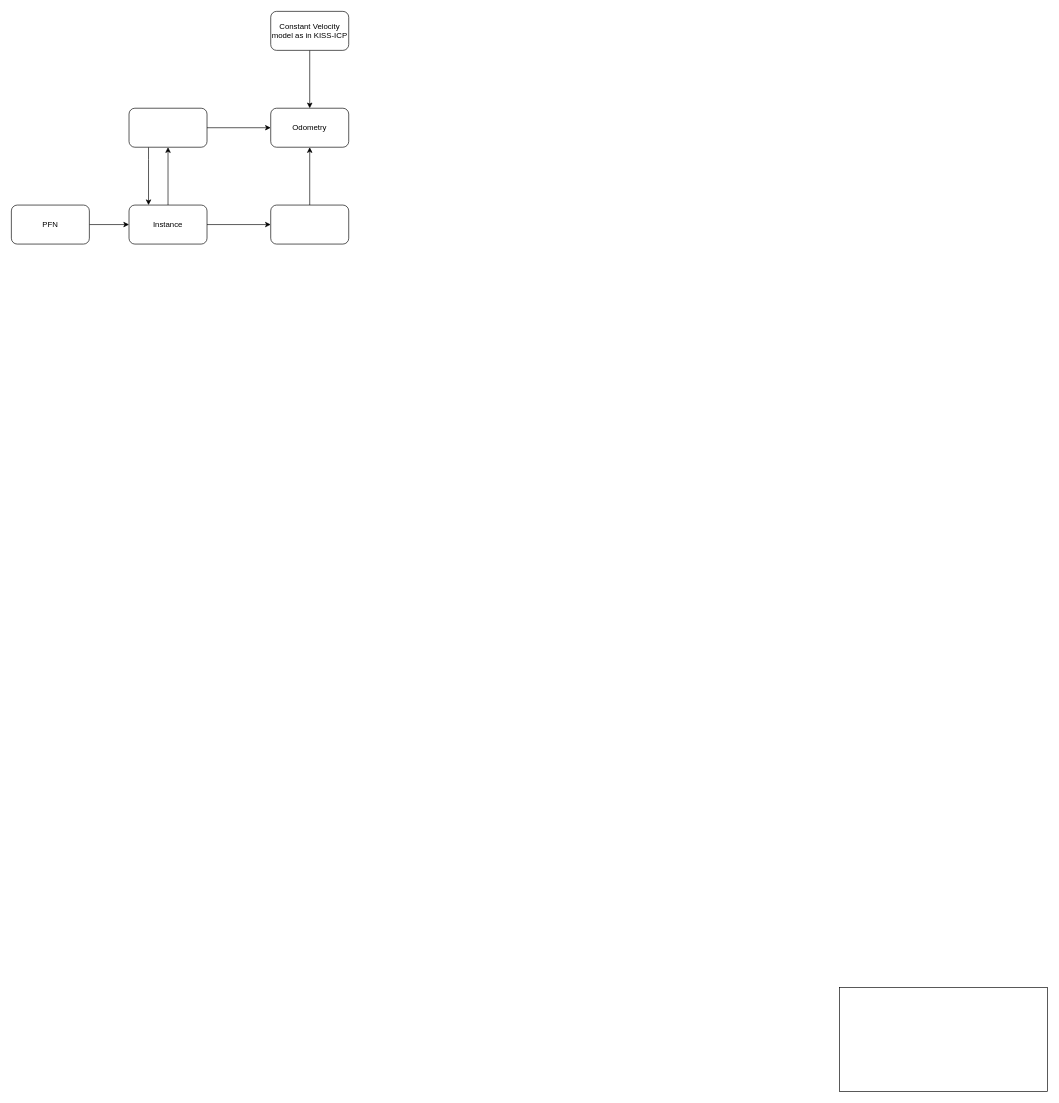
This 1059x1103 diagram has some shape labels left out. The centre of each missing label's shape, as x and y in pixels:
"Background Map" goes at (x=309, y=224).
"Flow" goes at (x=167, y=127).
